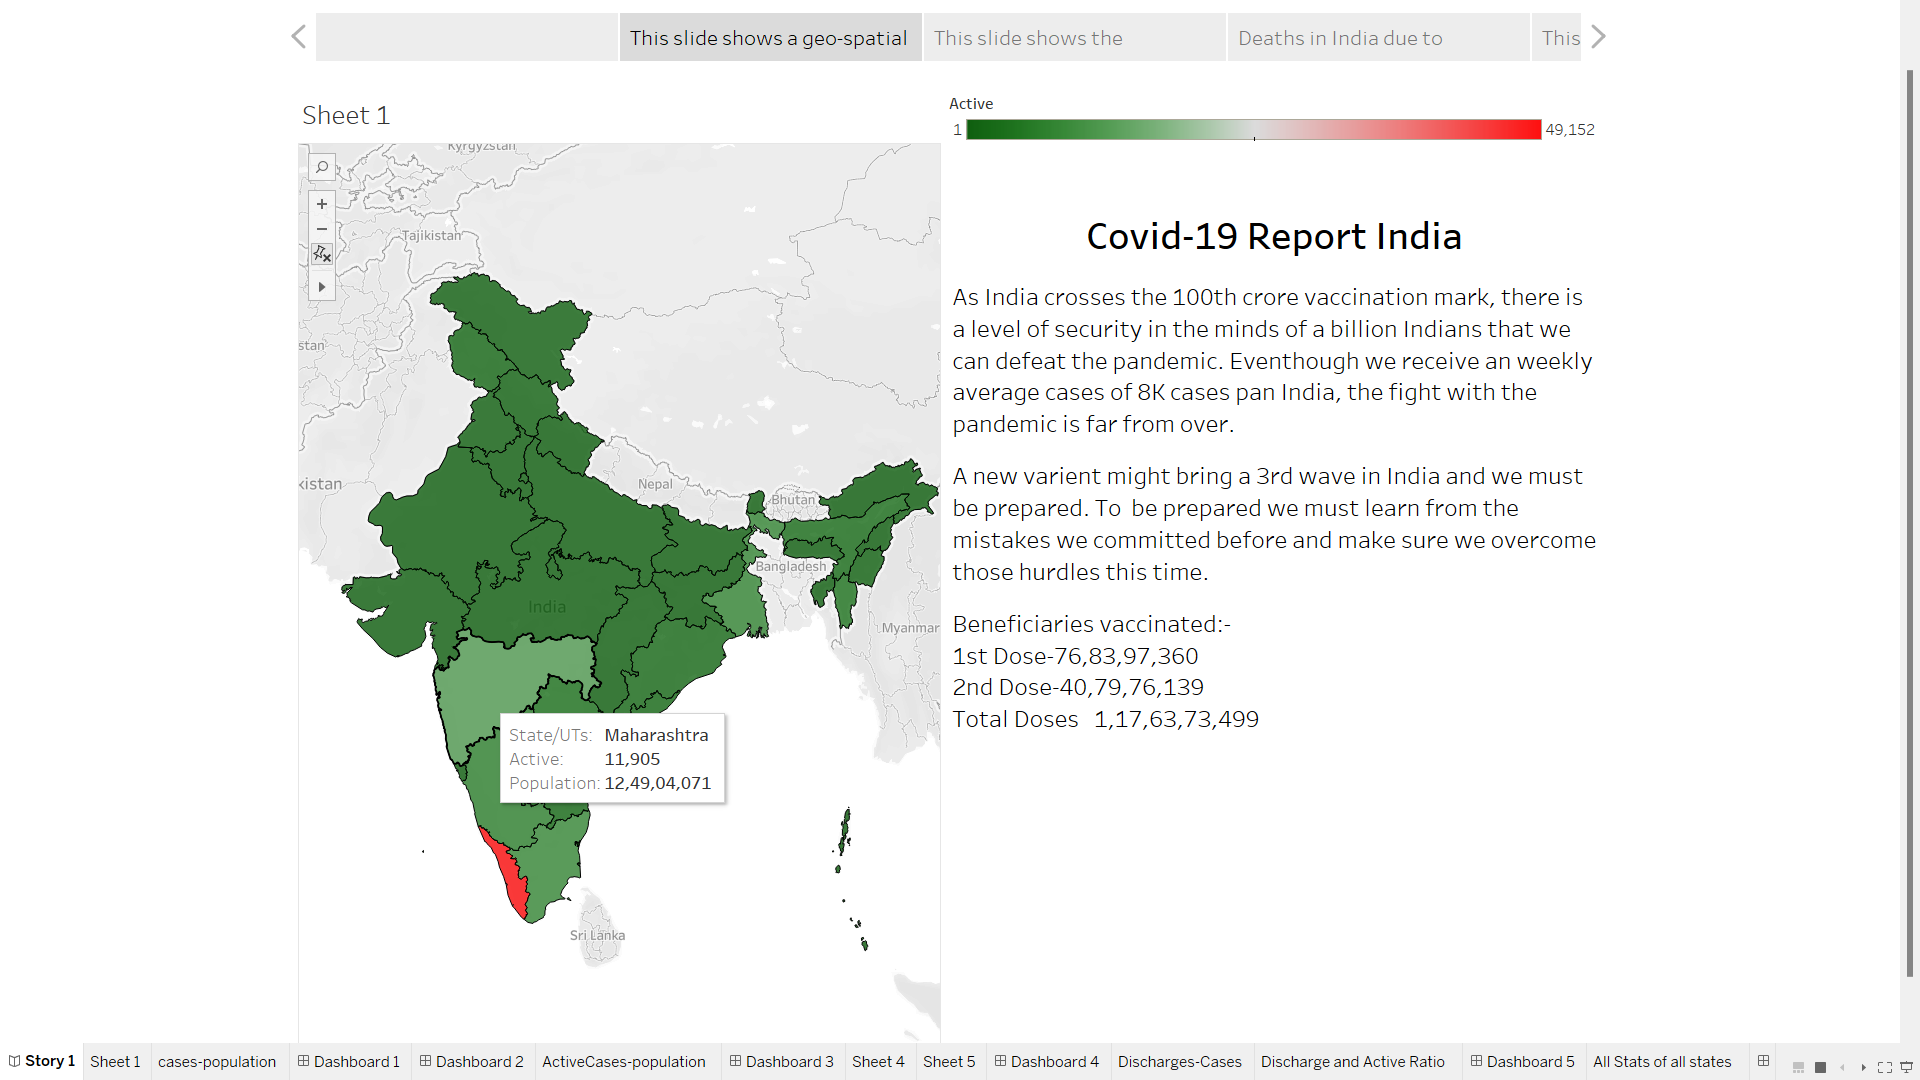

Layout of this report page (visuals, bound fields, positions):
{"tool":"tableau","page":{"name":"Dashboard 1","canvas":[1000,1000],"units":"permille","ordinal":0},"visuals":[{"type":"worksheet","title":"Sheet 1","mark":"Automatic","box":[4.2,7.7,648.4,984.7]},{"type":"legend","title":"Sheet 1","param":"[federated.0qp4arw0ty7htq17ph0xu04r5b4q].[sum:Active:qk]","box":[652.6,7.7,343.2,111.2]},{"type":"text","box":[652.6,118.9,343.2,658.7]}]}

Visuals, with their boxes on the dashboard's canvas, which has no fixed pixel size, in thousandths of its width and height (x1, y1, x2, y2). These are canvas units, not pixel positions in the 1920x1080 screenshot, which may show the page scaled, cropped or inside an application window:
"Sheet 1" worksheet: (4,8,653,992)
"Sheet 1" legend: (653,8,996,119)
text: (653,119,996,778)
